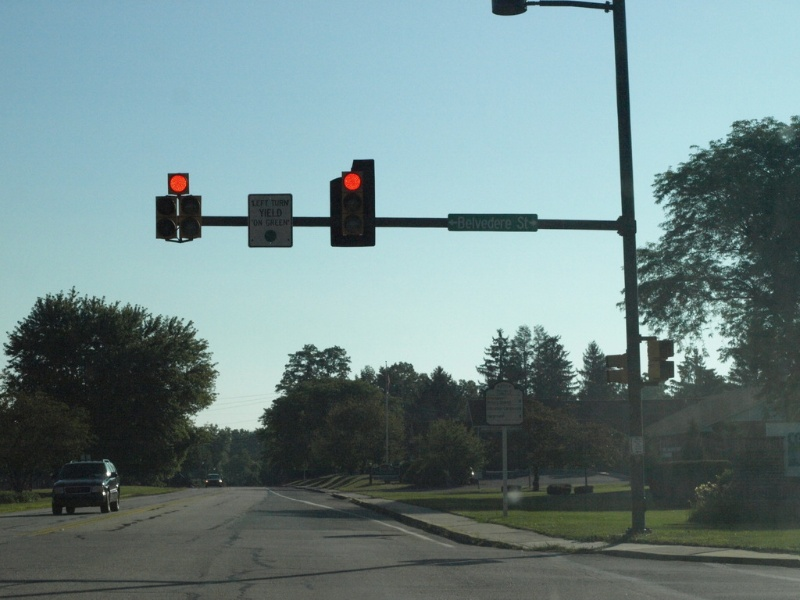red_light: (164, 170, 195, 194), (339, 169, 364, 194)
speed_limit_15: (165, 171, 191, 195)
